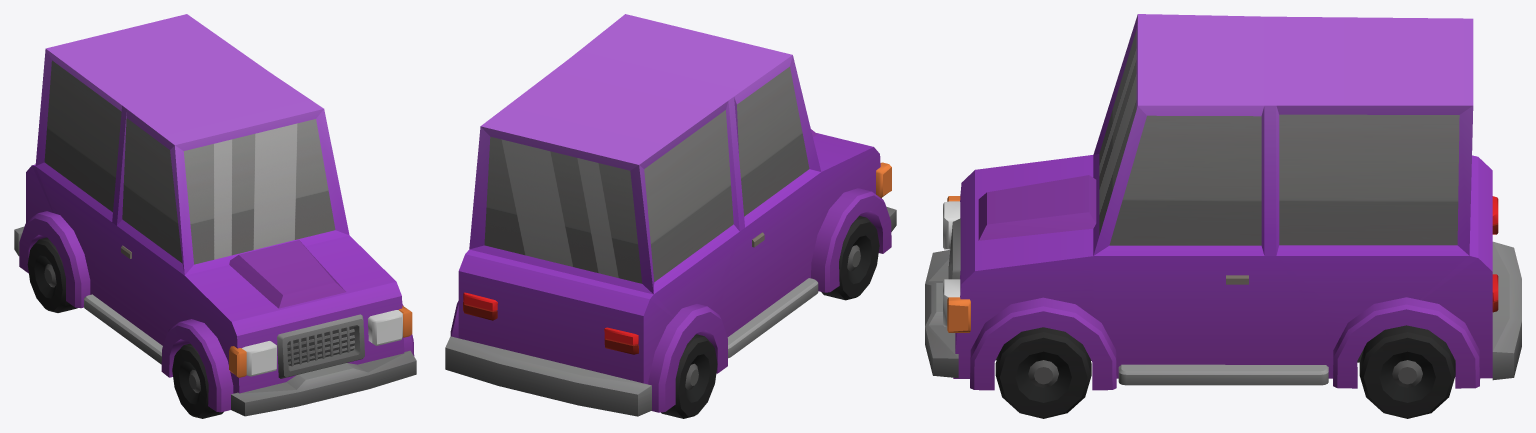
File: Car_5_12.fbx
3 views of the same model, side by side, from view 1: azimuth 30°, elevation 25°; view 2: azimuth 150°, elevation 25°; view 3: azimuth 270°, elevation 25° (orthographic). The views are drawn at different scales.
Visible parts, largest first — view 1: Car_5_12, W_br, W_fr; view 2: Car_5_12, W_br, W_fr; view 3: Car_5_12, W_bl, W_fl.
Part boxes in pixels (x1=…): Car_5_12: x1=14, y1=14, x2=416, y2=416; W_br: x1=27, y1=237, x2=77, y2=312; W_fr: x1=172, y1=343, x2=223, y2=418; Car_5_12: x1=445, y1=14, x2=896, y2=416; W_br: x1=661, y1=334, x2=717, y2=418; W_fr: x1=821, y1=216, x2=879, y2=300; Car_5_12: x1=925, y1=14, x2=1521, y2=390; W_bl: x1=1359, y1=325, x2=1455, y2=418; W_fl: x1=995, y1=327, x2=1091, y2=418.
Bounding box in the file's own units: 113 × 130 × 233.
